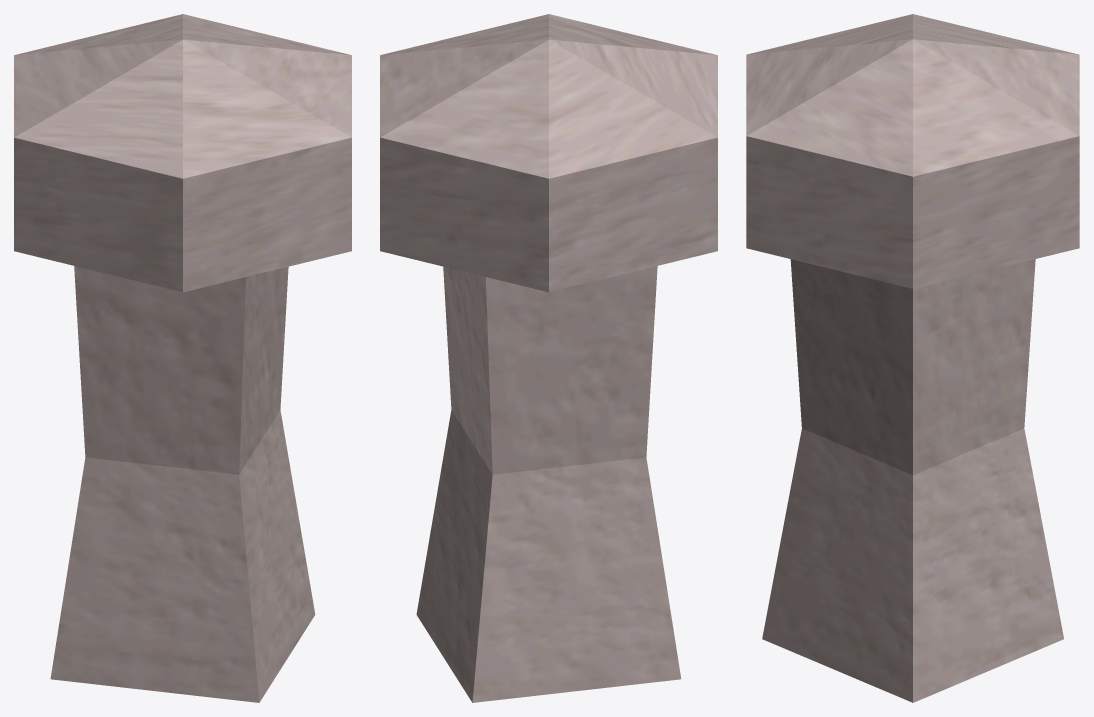
Rendered from ZiersäuleKlein_Nieder_1685.glb.
3 views of the same model, side by side, from view 1: azimuth 30°, elevation 25°; view 2: azimuth 150°, elevation 25°; view 3: azimuth 270°, elevation 25° (orthographic).
Visible parts, largest first — view 1: pCylinderShape23, pSphereShape20; view 2: pCylinderShape23, pSphereShape20; view 3: pCylinderShape23, pSphereShape20.
Part boxes in pixels (left/top/right/bottom): pCylinderShape23: left=50, top=266, right=315, bottom=702; pSphereShape20: left=14, top=14, right=351, bottom=292; pCylinderShape23: left=416, top=266, right=681, bottom=702; pSphereShape20: left=380, top=14, right=717, bottom=292; pCylinderShape23: left=762, top=259, right=1063, bottom=702; pSphereShape20: left=746, top=14, right=1079, bottom=288.
Bounding box in the file's own units: 0.0818 × 0.1405 × 0.0708.
Materials: 2 (2 with a texture image).
